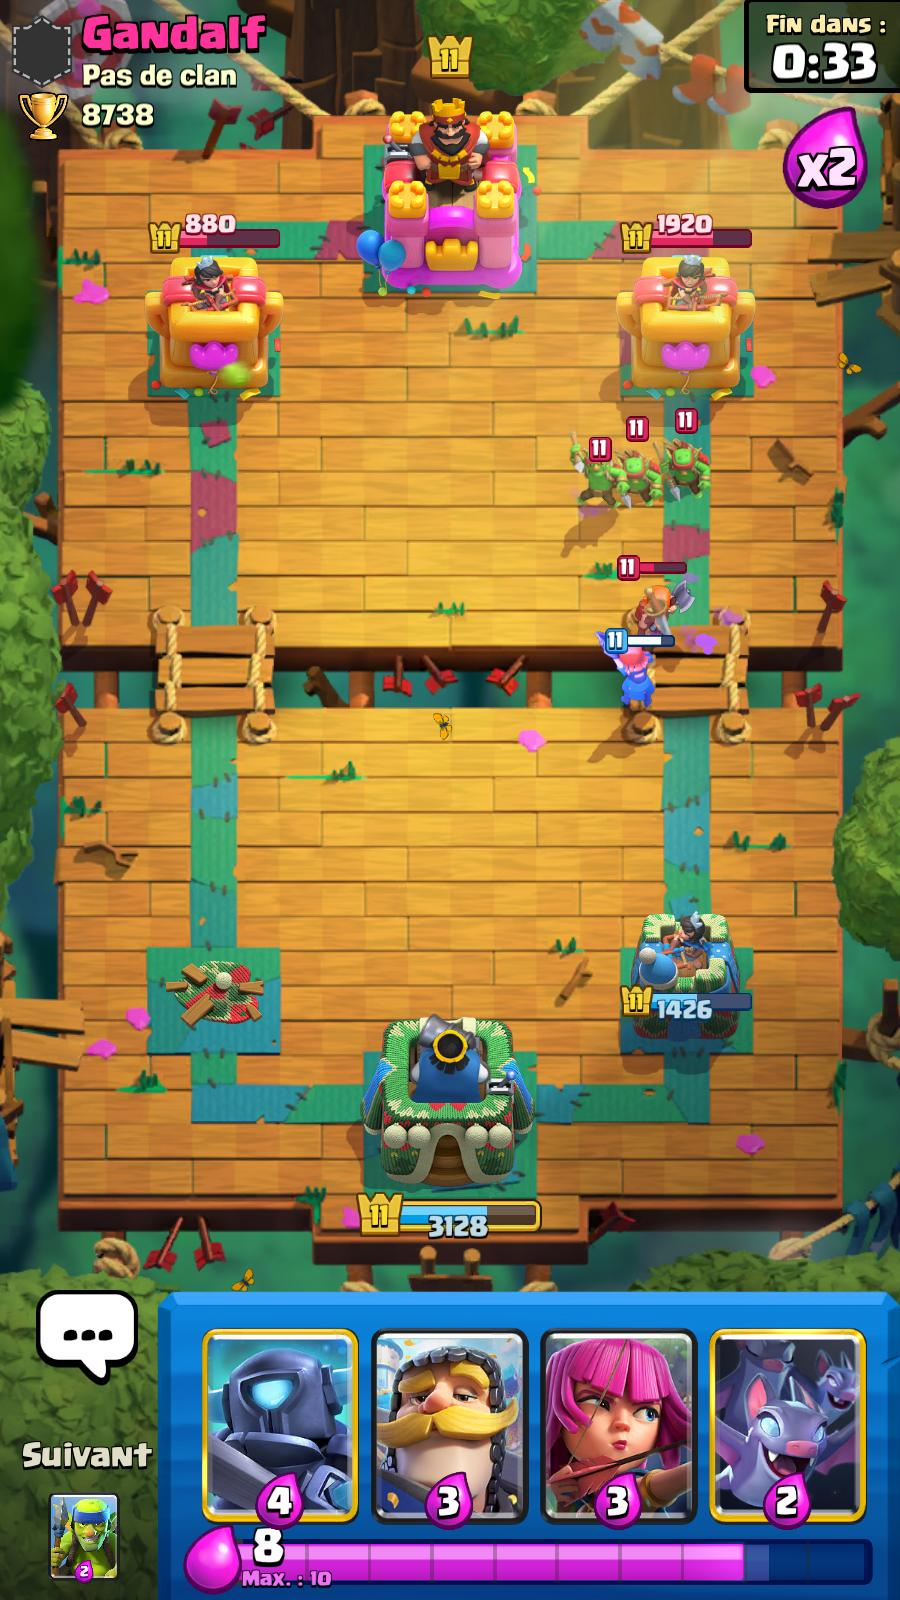gobelin_lances: (610, 427, 665, 509), (673, 424, 730, 491), (578, 452, 635, 510)
valkyrie: (602, 559, 707, 645), (598, 629, 666, 719)
